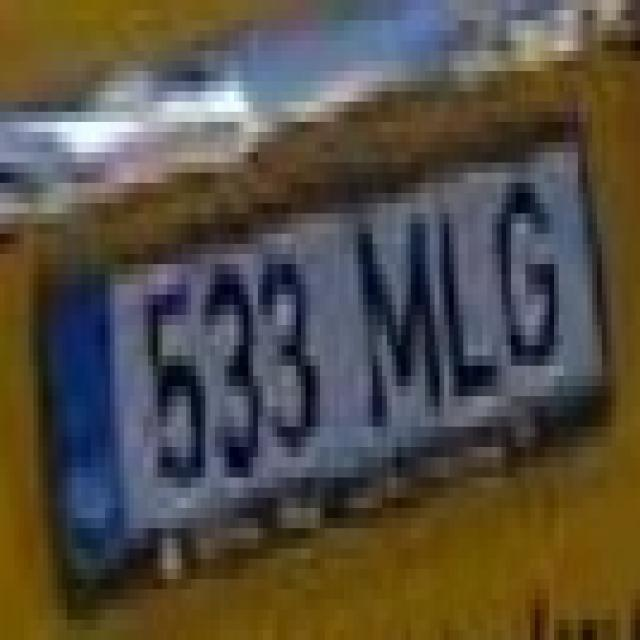LicensePlate: (29, 124, 626, 582)
